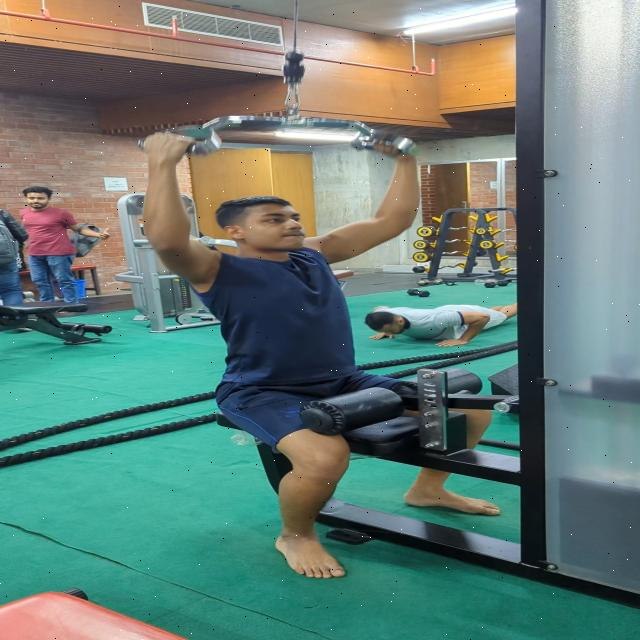Normal_LatPulldown: (121, 107, 522, 585)
